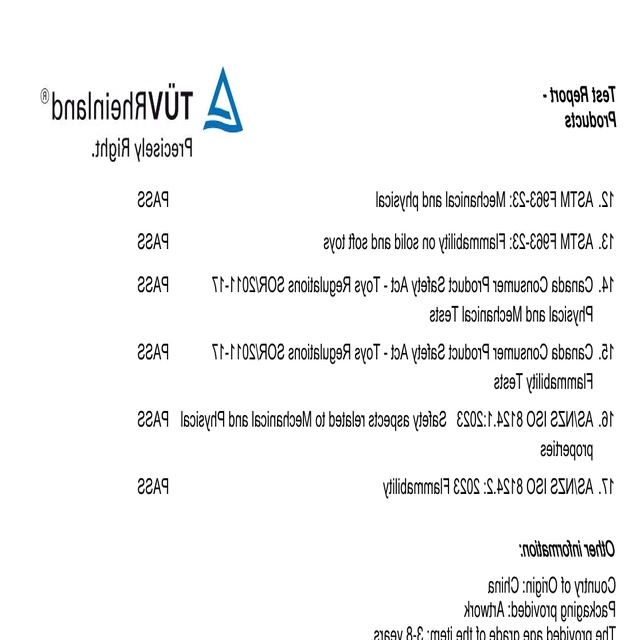tuv_rheinland: (35, 68, 249, 138)
